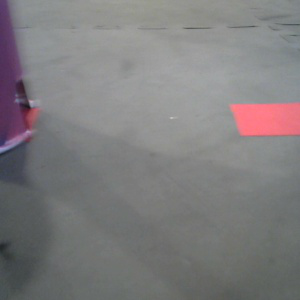middle: (1, 1, 39, 152)
